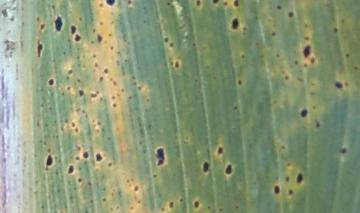tarspot: (154, 146, 165, 168), (53, 14, 64, 32), (35, 39, 44, 57), (272, 183, 282, 196), (303, 44, 311, 58), (333, 80, 343, 91), (223, 164, 232, 175), (296, 172, 304, 184), (232, 18, 240, 30), (299, 108, 308, 118), (89, 89, 99, 98), (46, 155, 54, 166), (95, 152, 103, 163), (202, 161, 210, 172), (101, 66, 110, 75), (69, 23, 77, 33), (78, 88, 86, 98), (73, 33, 81, 42), (67, 164, 74, 174), (34, 118, 41, 128), (105, 1, 116, 7), (47, 77, 55, 85), (132, 184, 140, 192), (216, 146, 223, 155), (173, 60, 180, 69), (1, 9, 8, 18), (193, 200, 199, 210), (96, 35, 103, 43), (39, 23, 46, 31), (82, 151, 89, 159), (287, 11, 295, 18), (340, 147, 347, 155), (314, 120, 320, 129), (195, 1, 202, 8), (332, 27, 339, 34), (74, 106, 81, 113), (309, 91, 316, 98), (35, 15, 41, 23), (288, 188, 294, 196), (233, 1, 239, 9), (276, 3, 282, 11), (344, 80, 350, 88), (302, 61, 308, 69), (142, 17, 148, 25), (270, 30, 276, 37), (168, 42, 175, 48), (168, 201, 174, 208), (240, 53, 247, 59), (304, 35, 311, 41), (310, 57, 316, 64), (110, 102, 117, 108), (76, 177, 83, 183), (146, 123, 152, 130), (212, 75, 218, 82), (339, 17, 345, 24), (237, 79, 242, 87), (296, 77, 304, 82), (163, 36, 169, 42), (280, 144, 286, 150), (285, 161, 291, 167), (218, 207, 224, 213), (160, 207, 166, 213), (254, 41, 260, 47), (242, 26, 248, 32), (303, 22, 309, 28), (344, 52, 350, 58), (353, 64, 359, 70), (98, 2, 104, 8), (10, 16, 16, 22), (77, 16, 83, 22), (90, 39, 96, 45), (166, 1, 172, 7), (46, 147, 52, 153), (125, 178, 131, 184), (77, 166, 83, 172), (145, 97, 151, 103), (207, 204, 212, 211), (90, 28, 97, 33), (65, 85, 72, 90), (286, 175, 290, 183), (212, 1, 220, 5), (223, 1, 228, 7), (234, 204, 239, 210), (232, 106, 238, 111), (293, 59, 298, 65), (110, 95, 116, 100), (98, 76, 104, 81), (51, 4, 56, 10), (68, 69, 73, 75), (92, 53, 97, 59), (109, 45, 114, 51), (112, 81, 118, 86), (127, 95, 133, 100), (131, 75, 137, 80), (152, 173, 158, 178), (130, 205, 135, 211), (101, 197, 107, 202), (311, 82, 316, 88), (179, 198, 184, 203), (275, 53, 280, 58), (284, 75, 289, 80), (95, 63, 100, 68), (99, 21, 104, 26), (108, 32, 113, 37), (75, 156, 80, 161), (77, 146, 82, 151), (107, 162, 112, 167), (137, 86, 142, 91), (192, 42, 197, 47), (169, 61, 174, 66), (89, 199, 94, 204), (75, 127, 79, 133), (132, 82, 138, 86), (61, 126, 65, 132), (139, 140, 143, 146), (88, 181, 92, 187), (84, 209, 90, 213), (72, 121, 75, 128), (128, 1, 132, 6), (63, 50, 67, 55), (66, 75, 70, 80), (77, 78, 81, 83), (64, 119, 69, 123), (107, 136, 111, 141), (98, 120, 102, 125), (81, 109, 86, 113), (121, 88, 125, 93), (76, 55, 80, 60), (312, 105, 316, 110), (117, 50, 121, 55), (62, 91, 65, 97), (195, 79, 199, 83), (137, 199, 141, 203), (110, 207, 114, 211), (96, 129, 99, 133)
